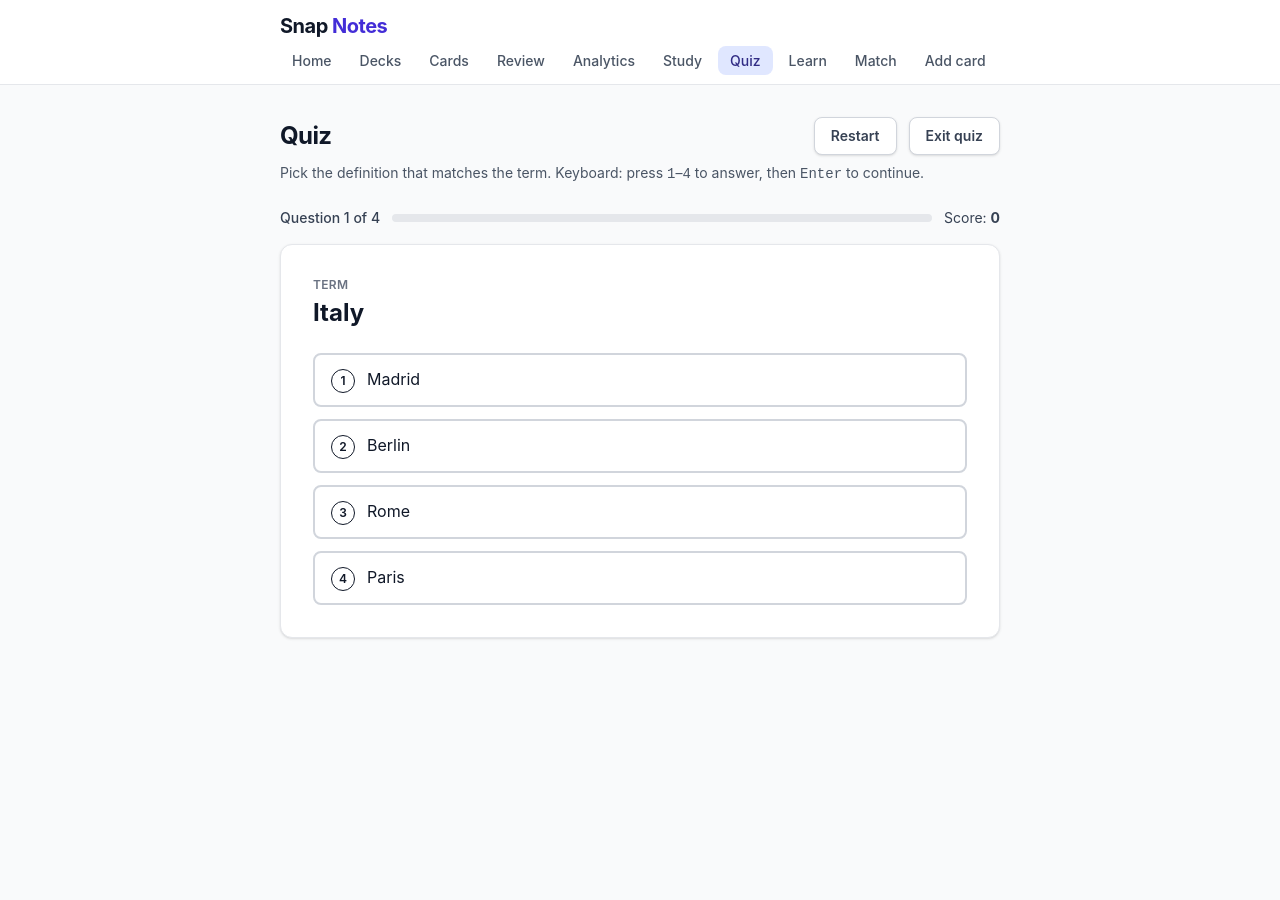
Scenario: QuizPage › shows feedback and the right answer for a wrong answer
Click the button "1 Madrid" at x=394, y=379, box [313,353,967,407]
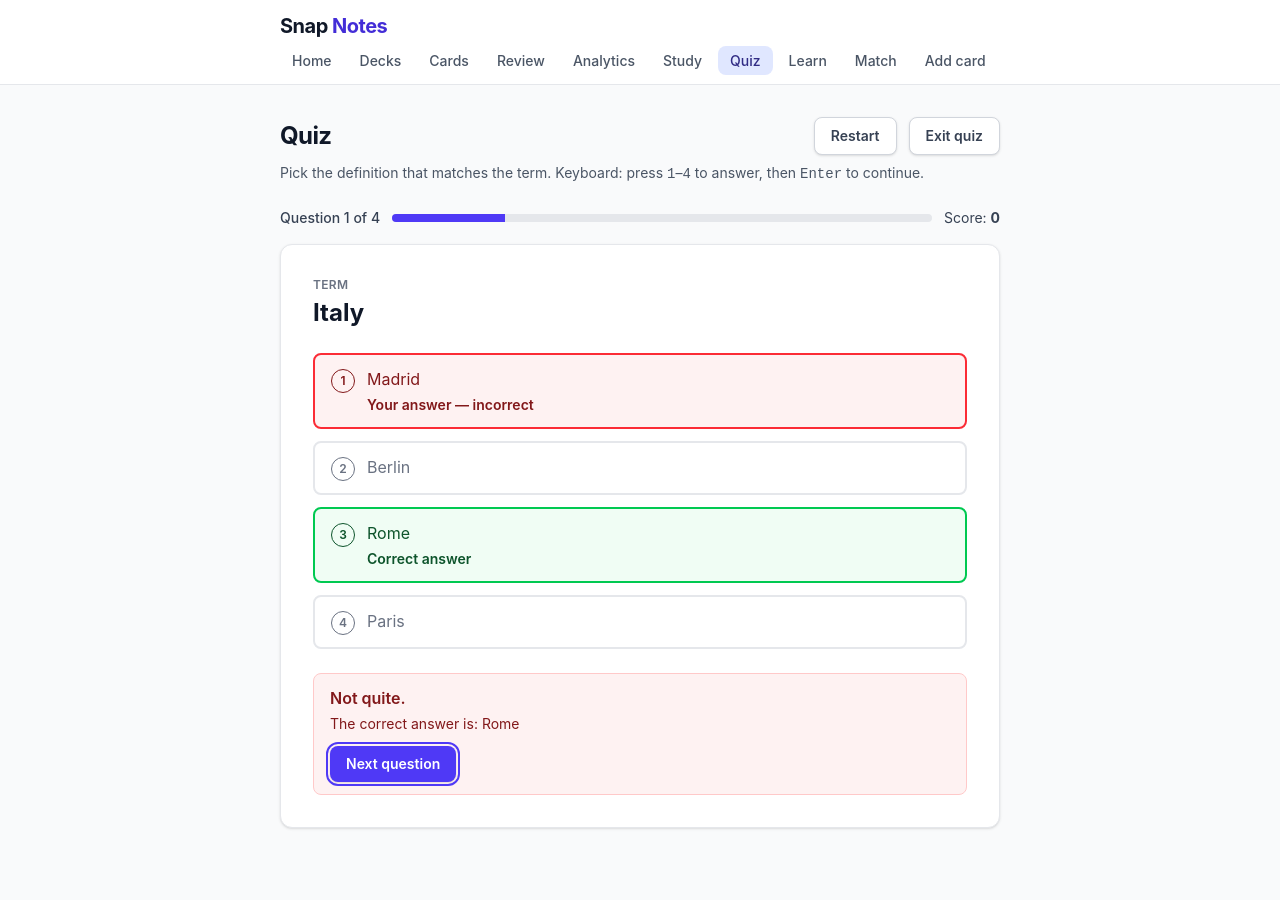
Check: the text "Not quite." is shown, box [330,688,406,708]
Check: the button "1 Madrid Your answer — incorrect" is shown, box [313,353,967,429]
Check: the button "3 Rome Correct answer" is shown, box [313,507,967,583]
